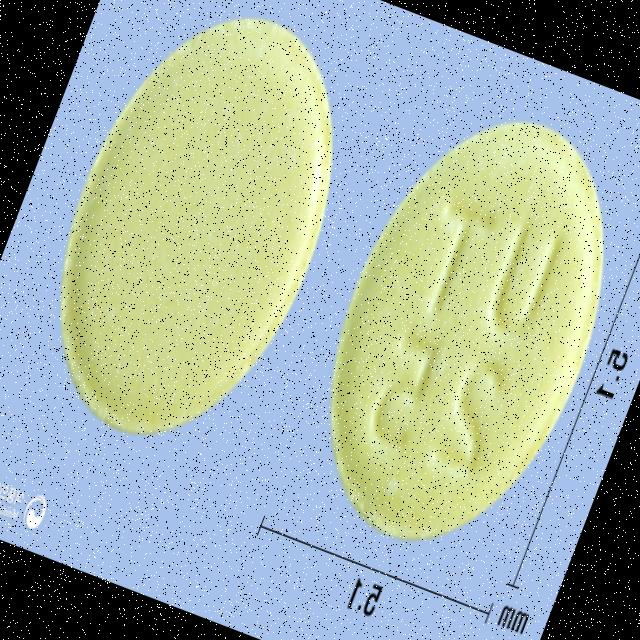Azaprine -25mg: (269, 77, 640, 585), (0, 0, 388, 481)
